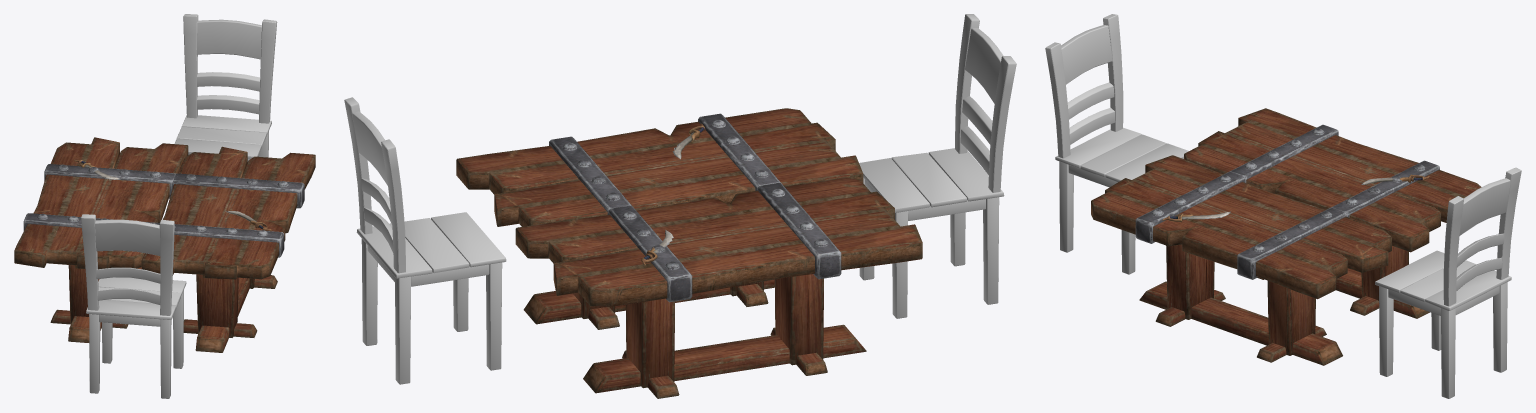
Rendered from stół3.gltf.
3 views of the same model, side by side, from view 1: azimuth 30°, elevation 25°; view 2: azimuth 150°, elevation 25°; view 3: azimuth 270°, elevation 25° (orthographic). The views are drawn at different scales.
Visible parts, largest first — view 1: SM_MERGED_StaticMeshActor_UAID_581122BC1080963702_2103347981; view 2: SM_MERGED_StaticMeshActor_UAID_581122BC1080963702_2103347981; view 3: SM_MERGED_StaticMeshActor_UAID_581122BC1080963702_2103347981.
Boxes of the visible parts, x1,y1,x2,y2 form: SM_MERGED_StaticMeshActor_UAID_581122BC1080963702_2103347981: (14, 14, 315, 398); SM_MERGED_StaticMeshActor_UAID_581122BC1080963702_2103347981: (344, 14, 1016, 398); SM_MERGED_StaticMeshActor_UAID_581122BC1080963702_2103347981: (1045, 14, 1521, 398).
Bounding box in the file's own units: 4.72 × 2.37 × 4.99.
